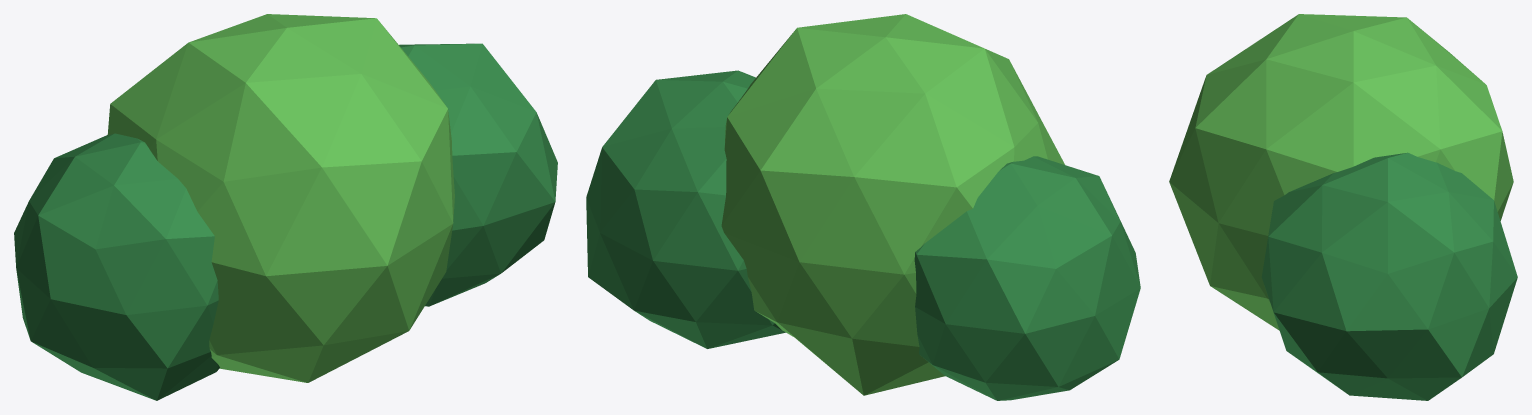
The model's file is Prop_Garden_Bush.fbx.
3 renders of one model, left to right at view 1: azimuth 30°, elevation 25°; view 2: azimuth 150°, elevation 25°; view 3: azimuth 270°, elevation 25°, orthographic. The views are drawn at different scales.
Parts seen in each view (by area): view 1: Prop_Garden_Bush; view 2: Prop_Garden_Bush; view 3: Prop_Garden_Bush.
Part boxes in pixels (x1,y1,x2,y2): Prop_Garden_Bush: (14, 14, 557, 400); Prop_Garden_Bush: (586, 14, 1140, 400); Prop_Garden_Bush: (1169, 14, 1517, 400).
Bounding box in the file's own units: 1.58 × 0.977 × 1.01.
